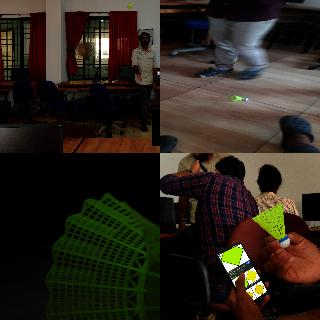shuttlecock: (45, 191, 159, 319), (252, 203, 290, 247), (231, 95, 248, 101), (125, 4, 131, 8)
